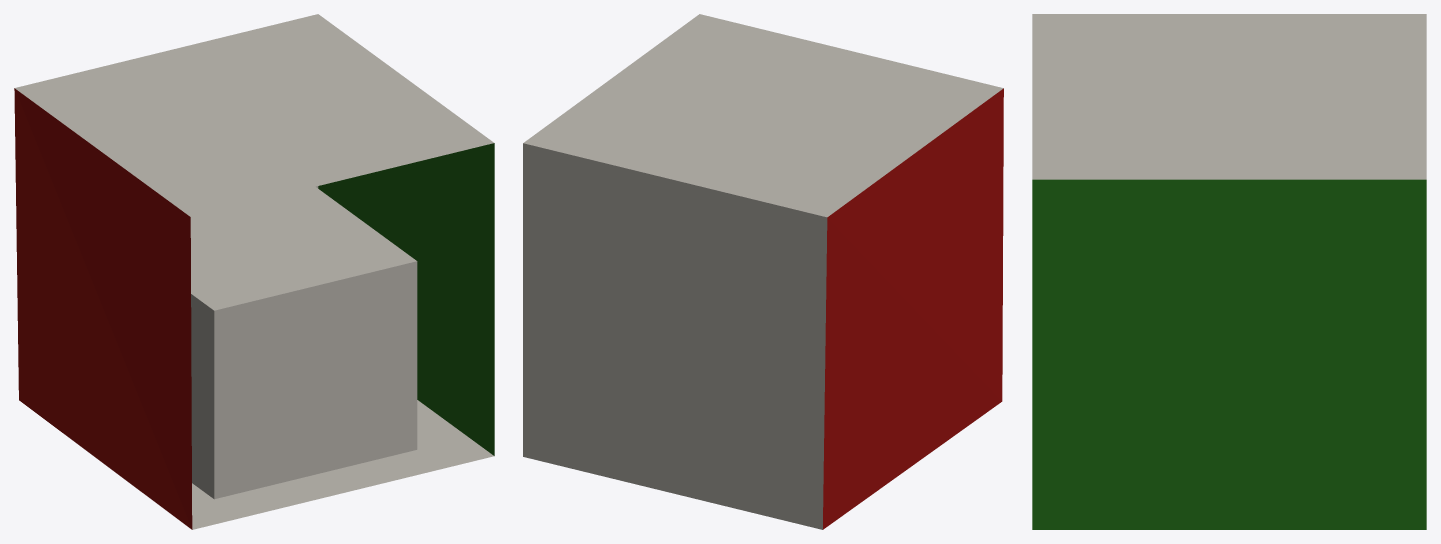
Rendered from box-with-walls.obj.
3 renders of one model, left to right at view 1: azimuth 30°, elevation 25°; view 2: azimuth 150°, elevation 25°; view 3: azimuth 270°, elevation 25°, orthographic. The views are drawn at different scales.
Visible parts, largest first — view 1: CornellBox-Original; view 2: CornellBox-Original; view 3: CornellBox-Original.
Part boxes in pixels (left/top/right/bottom): CornellBox-Original: left=14, top=14, right=494, bottom=529; CornellBox-Original: left=523, top=14, right=1003, bottom=529; CornellBox-Original: left=1032, top=14, right=1426, bottom=529.
Bounding box in the file's own units: 2.02 × 1.99 × 2.03.
